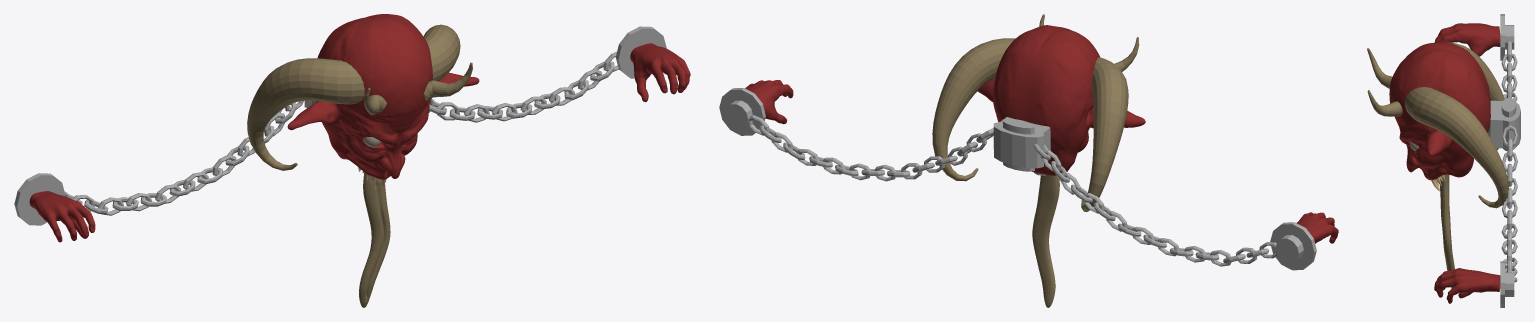
File: Devil Mesh.fbx
3 views of the same model, side by side, from view 1: azimuth 30°, elevation 25°; view 2: azimuth 150°, elevation 25°; view 3: azimuth 270°, elevation 25° (orthographic). The views are drawn at different scales.
Parts seen in each view (by area): view 1: Devil_Face, Hands; view 2: Devil_Face, Hands; view 3: Devil_Face, Hands.
Part boxes in pixels (<box>): Devil_Face: <box>247,14,479,307</box>; Hands: <box>14,26,690,242</box>; Devil_Face: <box>932,14,1145,307</box>; Hands: <box>719,80,1338,270</box>; Devil_Face: <box>1367,42,1508,288</box>; Hands: <box>1434,14,1520,307</box>.
Size of the model in its own units: 1931 by 835 by 470.
